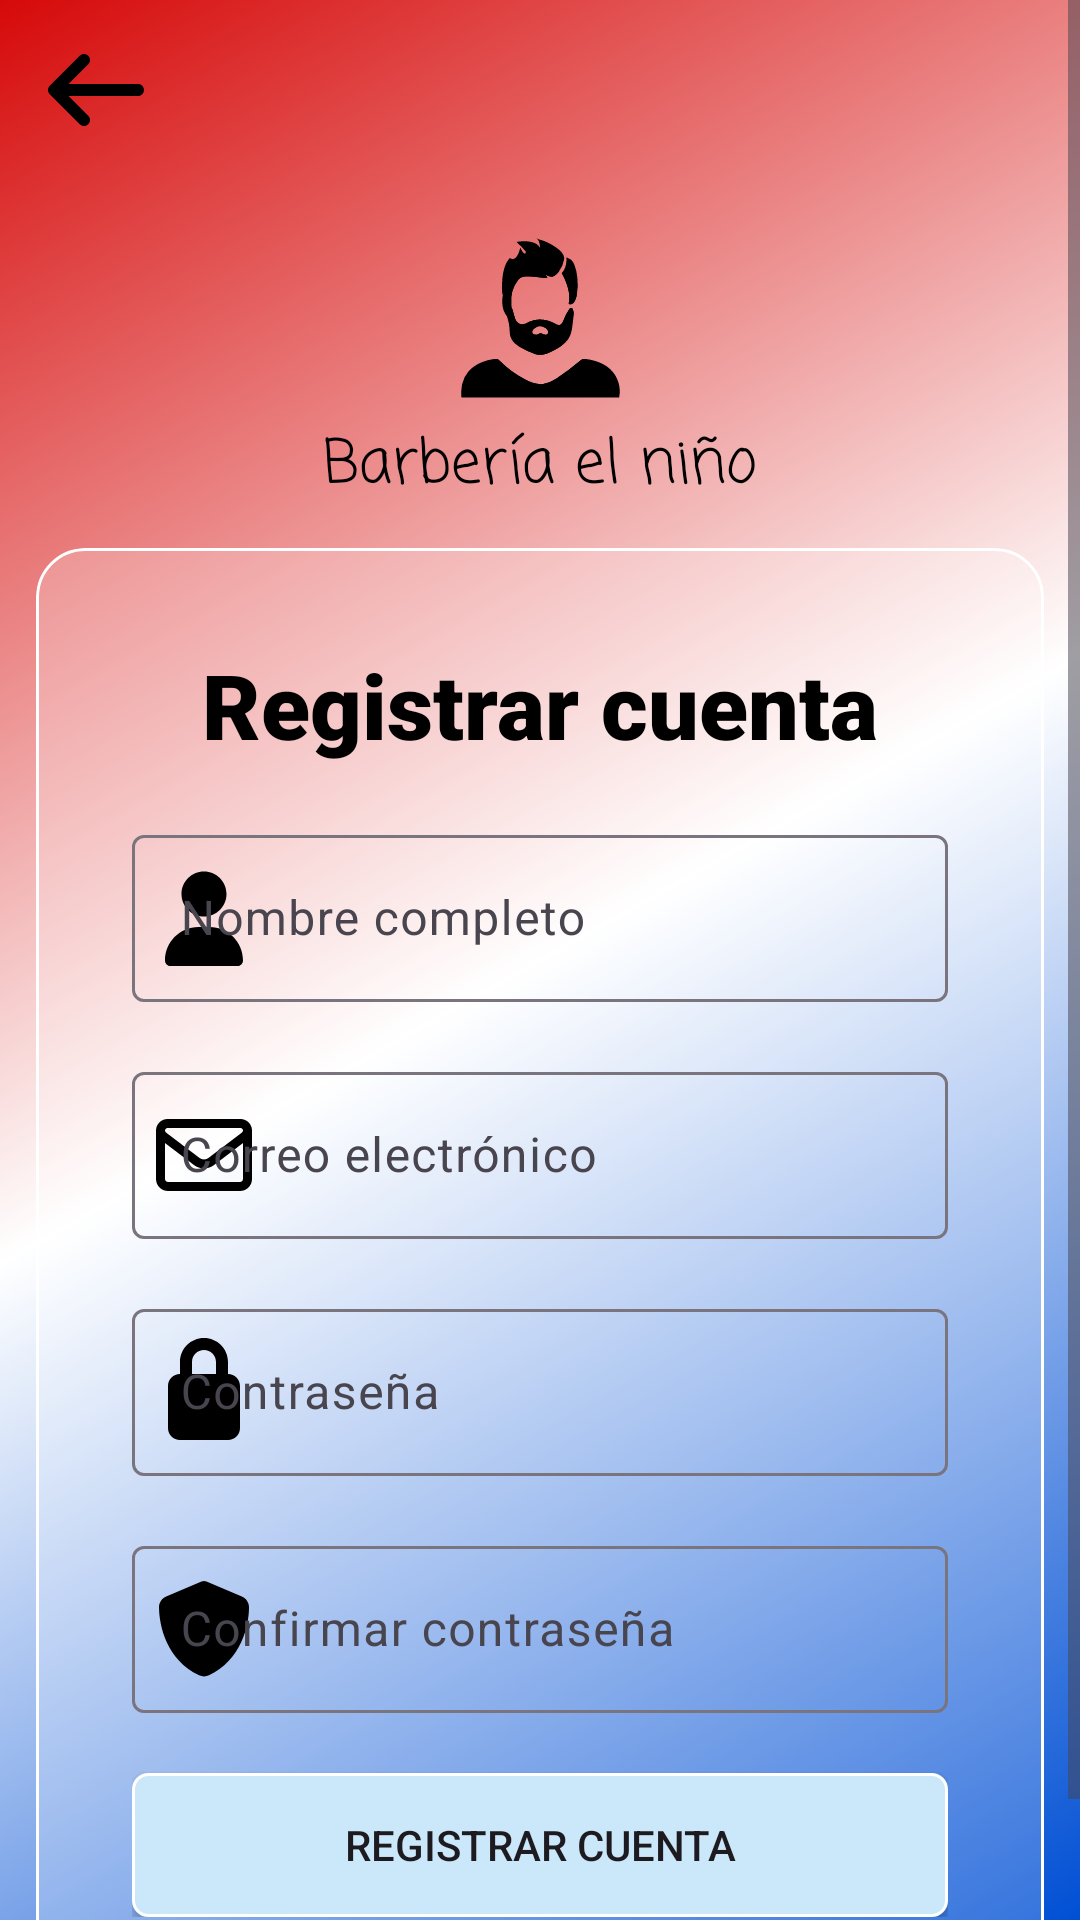

Icon click points for this 1080 × 1920 phone screenshot, format [x,y]:
beard man: [540,300]
